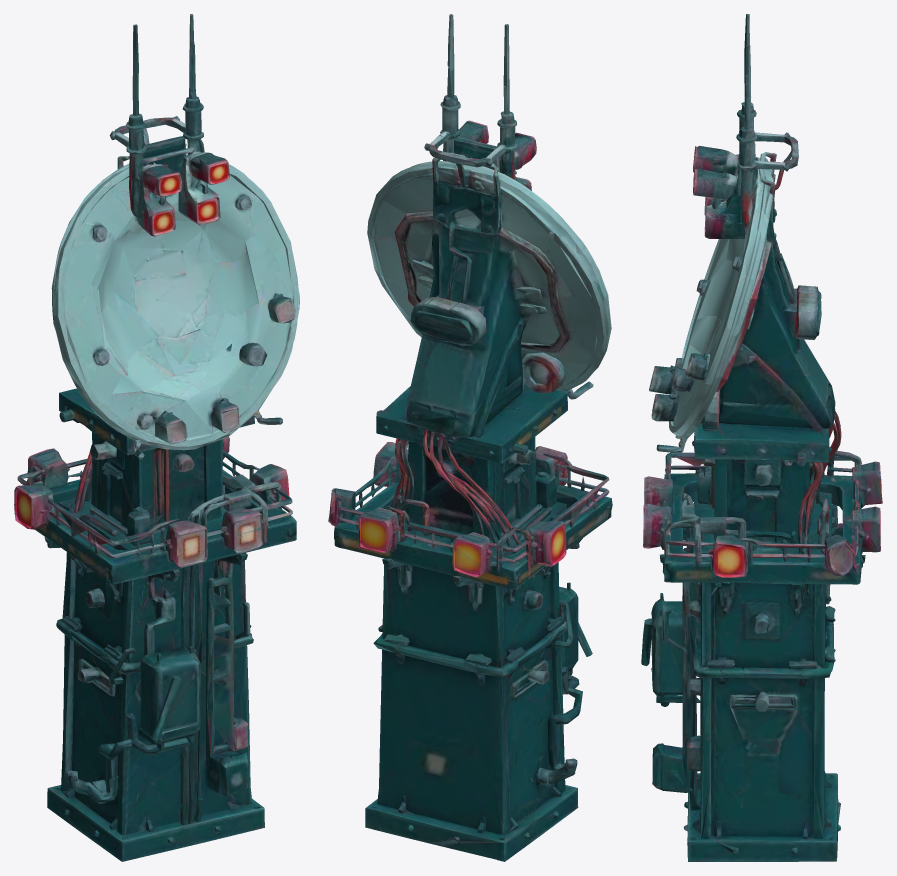
Rendered from mx_wz_comms.glb.
The picture shows the model from 3 angles, left to right: view 1: azimuth 30°, elevation 25°; view 2: azimuth 150°, elevation 25°; view 3: azimuth 270°, elevation 25°; orthographic projection.
Bounding box in the file's own units: 0.5923 × 1.9 × 0.5205.
1 material, 1 textured.
